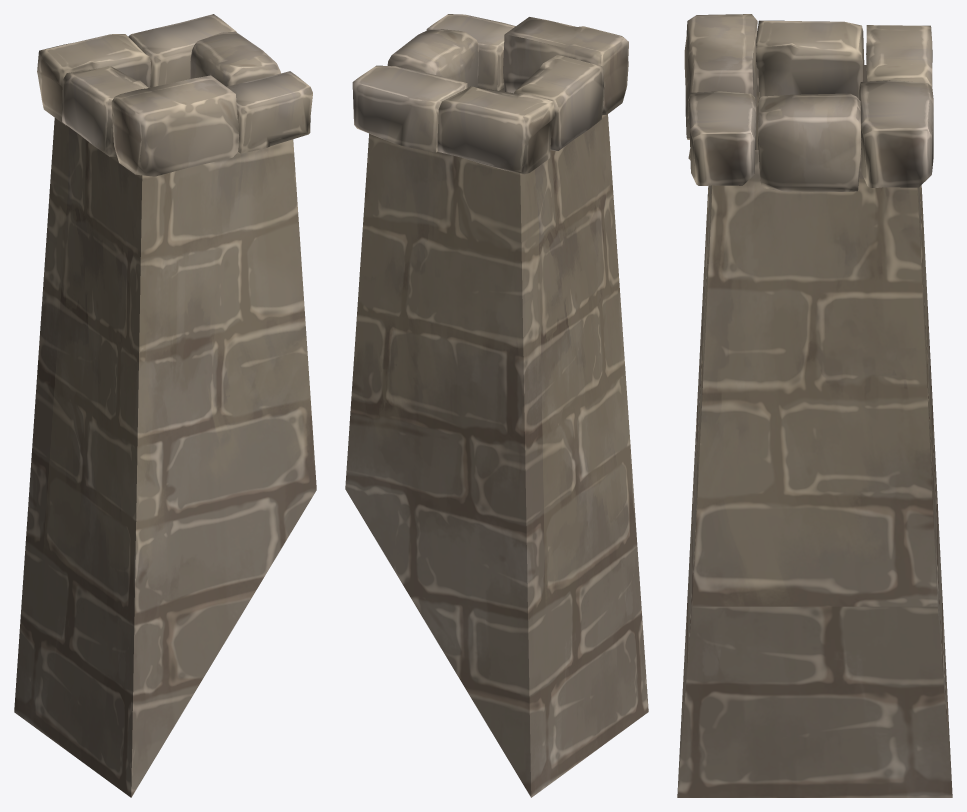
Rendered from Prop_Chimney.gltf.
3 renders of one model, left to right at view 1: azimuth 30°, elevation 25°; view 2: azimuth 150°, elevation 25°; view 3: azimuth 270°, elevation 25°, orthographic. The views are drawn at different scales.
Parts seen in each view (by area): view 1: Prop_Chimney; view 2: Prop_Chimney; view 3: Prop_Chimney.
Part boxes in pixels (box(x1,y1,x2,y2)): Prop_Chimney: box(14, 14, 316, 797); Prop_Chimney: box(345, 14, 648, 797); Prop_Chimney: box(677, 14, 952, 797).
Size of the model in its own units: 0.9458 by 3.18 by 1.
Materials: 2 (2 with a texture image).
